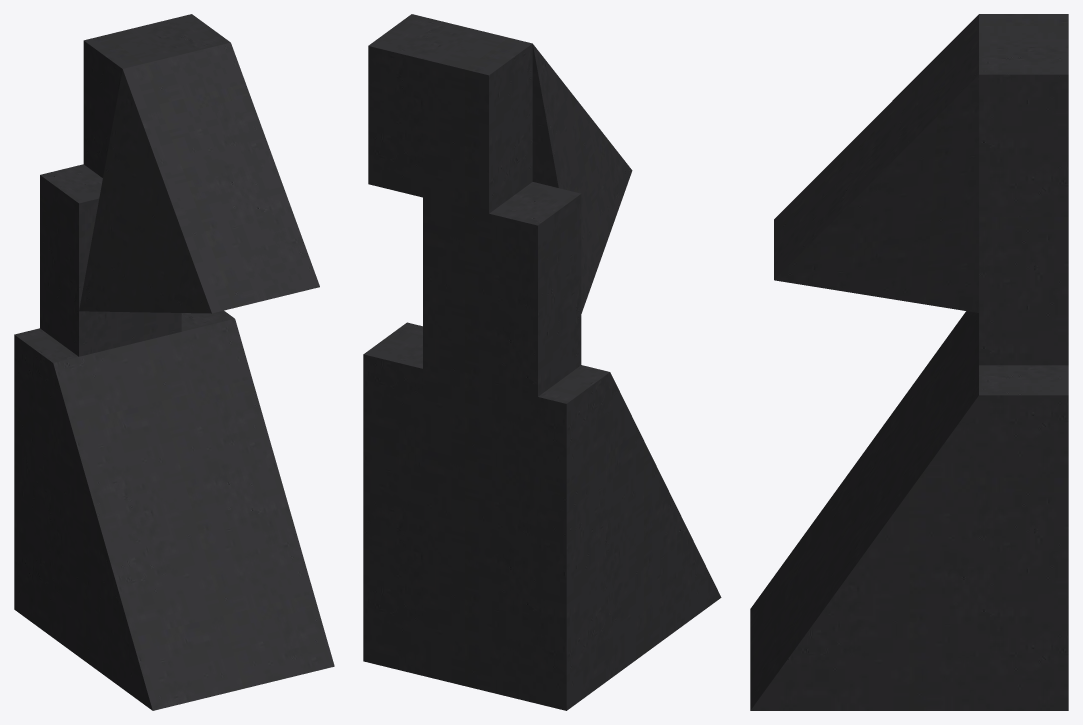
Rendered from jezdec_cerna.glb.
The picture shows the model from 3 angles, left to right: view 1: azimuth 30°, elevation 25°; view 2: azimuth 150°, elevation 25°; view 3: azimuth 270°, elevation 25°; orthographic projection. The views are drawn at different scales.
Parts seen in each view (by area): view 1: jezdec_cerna; view 2: jezdec_cerna; view 3: jezdec_cerna.
Part boxes in pixels (x1,y1,x2,y2): jezdec_cerna: [14, 14, 334, 710]; jezdec_cerna: [363, 14, 721, 710]; jezdec_cerna: [750, 14, 1068, 710].
Size of the model in its own units: 0.03 by 0.087 by 0.0396.
Materials: 1 (1 with a texture image).
